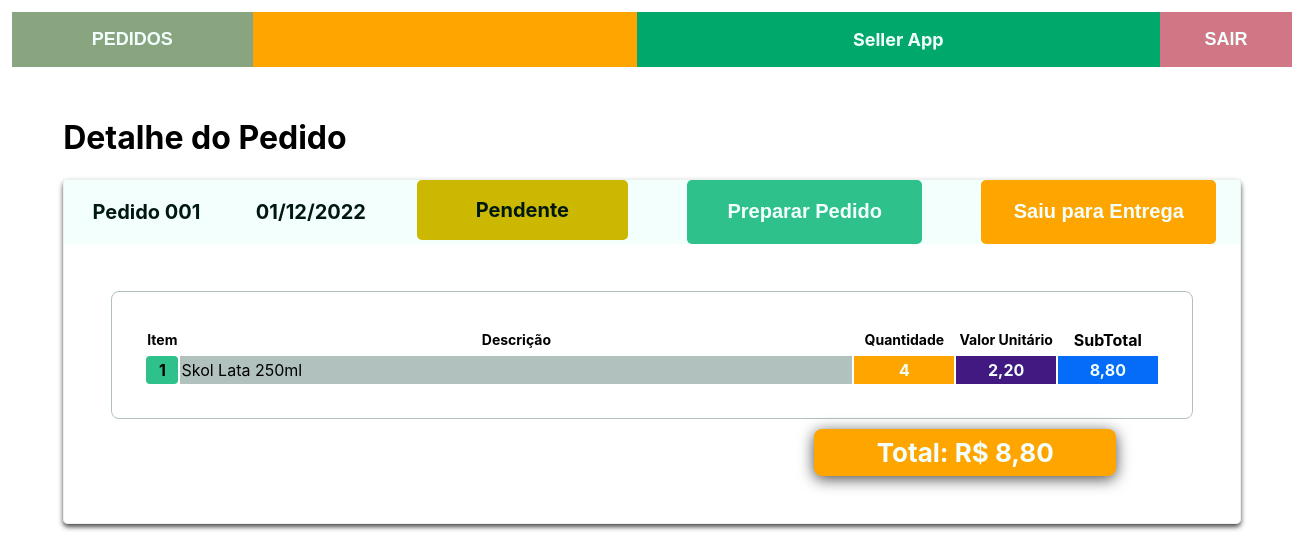
it: Testa comportamento ao clicar em preparar pedido › Verifica comportamento dos botões
Expected: the text "Pendente" is shown, [417,180,628,240]
Click the button with test id "seller_order_details__button-preparing-check": (805, 212) [687,180,922,244]
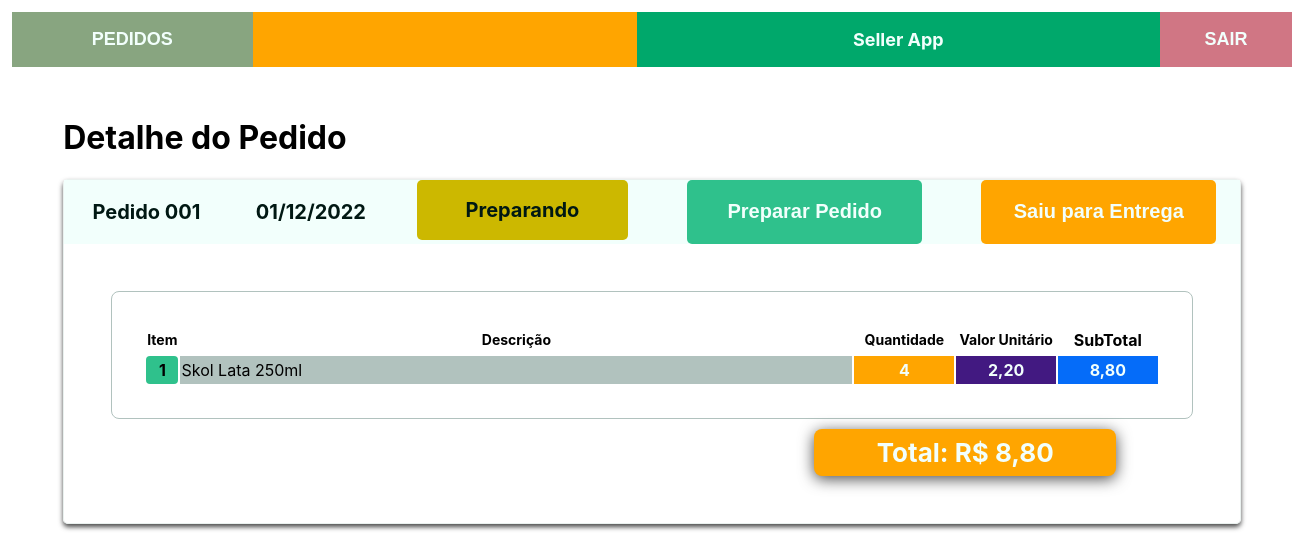
Expected: the text "Preparando" is shown, [417,180,628,240]
Click the button with test id "seller_order_details__button-dispatch-check": (1099, 212) [981,180,1216,244]
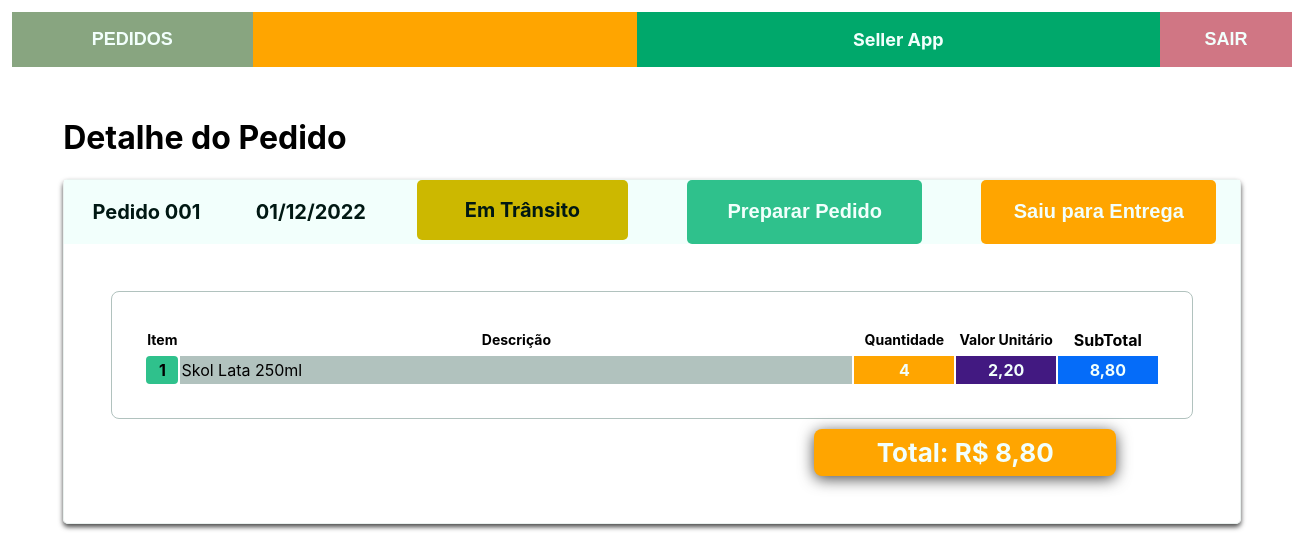
Expected: the button with test id "seller_order_details__button-preparing-check" is disabled, [687,180,922,244]
Expected: the text "Em Trânsito" is shown, [417,180,628,240]
